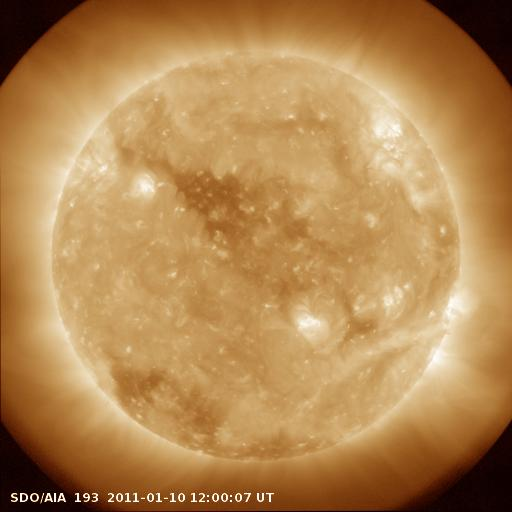coronal_hole: (142, 159, 257, 248), (169, 380, 225, 453), (108, 362, 164, 426)
